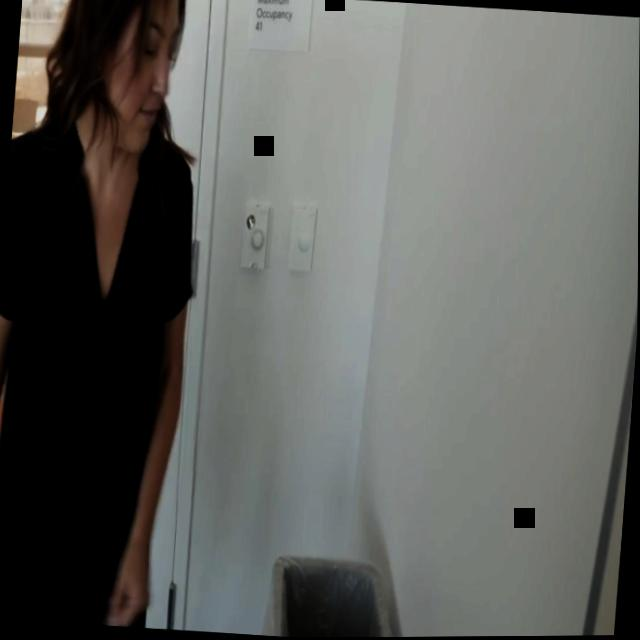NO-Mask: (94, 0, 181, 154)
